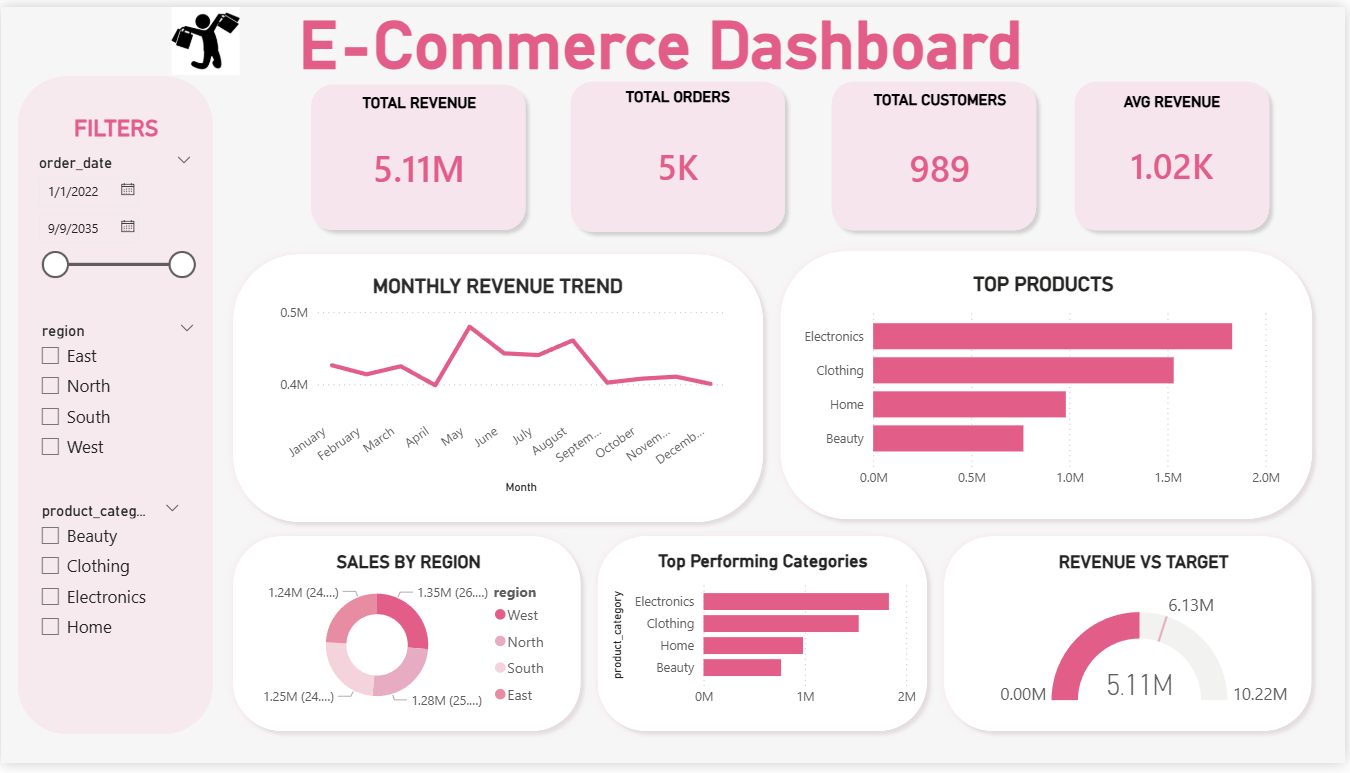

This screenshot's page, from the dashboard's own definition file:
{"tool":"powerbi","page":{"name":"Page 1","canvas":[1280,720],"ordinal":0},"visuals":[{"type":"shape","box":[287.5,65.6,220.3,154.7],"z":0},{"type":"cardVisual","title":"TOTAL REVENUE","fields":{"Data":["Sum(ecommerce_sales_analytics_5000.revenue)"]},"box":[317.2,82.8,162.5,120.3],"z":1000},{"type":"shape","box":[213.2,227.4,521.1,271.6],"z":2000},{"type":"lineChart","title":"MONTHLY REVENUE TREND","fields":{"Y":["Sum(ecommerce_sales_analytics_5000.revenue)"],"Category":["ecommerce_sales_analytics_5000.order_date.Variation.Date Hierarchy.Month"]},"box":[252.6,254.2,440.5,213.2],"z":3000},{"type":"shape","box":[734.2,224.2,522.6,271.6],"z":4000},{"type":"barChart","title":"TOP PRODUCTS","fields":{"Category":["ecommerce_sales_analytics_5000.product_category"],"Y":["Sum(ecommerce_sales_analytics_5000.revenue)"]},"box":[754.7,252.6,476.8,213.2],"z":5000},{"type":"shape","box":[213.2,495.8,347.4,202.1],"z":6000},{"type":"donutChart","title":"SALES BY REGION","fields":{"Y":["Sum(ecommerce_sales_analytics_5000.revenue)"],"Category":["ecommerce_sales_analytics_5000.region"]},"box":[241.6,517.9,293.7,157.9],"z":7000},{"type":"shape","box":[890.5,495.8,366.3,202.1],"z":8000},{"type":"gauge","title":"REVENUE VS TARGET","fields":{"Y":["Sum(ecommerce_sales_analytics_5000.revenue)"],"TargetValue":["ecommerce_sales_analytics_5000.Target"]},"box":[941.1,517.9,293.7,157.9],"z":9000},{"type":"shape","box":[534.4,62.5,220.3,159.4],"z":10000},{"type":"shape","box":[782.8,62.5,210.9,157.8],"z":11000},{"type":"shape","box":[1014.1,62.5,201.6,157.8],"z":12000},{"type":"cardVisual","title":"TOTAL ORDERS","fields":{"Data":["Count(ecommerce_sales_analytics_5000.order_id)"]},"box":[548.4,76.6,192.2,129.7],"z":13000},{"type":"cardVisual","title":"TOTAL CUSTOMERS","fields":{"Data":["Count(ecommerce_sales_analytics_5000.customer_id)"]},"box":[793.8,79.7,200,126.6],"z":14000},{"type":"cardVisual","title":"AVG REVENUE","fields":{"Data":["ecommerce_sales_analytics_5000.Avg Revenue"]},"box":[1037.5,81.2,156.2,120.3],"z":15000},{"type":"shape","box":[560.5,495.8,330,202.1],"z":16000},{"type":"shape","box":[15.8,66.3,186.3,626.9],"z":17001},{"type":"textbox","title":"FILTERS","box":[37.9,102.6,142.1,53.7],"z":17002},{"type":"slicer","fields":{"Values":["ecommerce_sales_analytics_5000.order_date"]},"box":[23.4,134.4,170.3,159.4],"z":17003},{"type":"slicer","fields":{"Values":["ecommerce_sales_analytics_5000.region"]},"box":[25,293.8,170.3,173.4],"z":17004},{"type":"textbox","title":"E-Commerce Dashboard","box":[0,0,1256.9,71.1],"z":17005},{"type":"image","box":[157.9,0,72.6,64.7],"z":17006},{"type":"slicer","fields":{"Values":["ecommerce_sales_analytics_5000.product_category"]},"box":[25,465.6,156.2,173.4],"z":17009},{"type":"barChart","title":"Top Performing Categories","fields":{"Category":["ecommerce_sales_analytics_5000.product_category"],"Y":["Sum(ecommerce_sales_analytics_5000.revenue)"]},"box":[575,517.2,300,157.8],"z":17010}]}

Visuals, with their boxes in screenshot pixels (x1, y1, x2, y2), scaled from the page's 1280x720 canvas onto the 1350x773 screenshot:
shape: detection(303, 70, 536, 237)
"TOTAL REVENUE" cardVisual: detection(335, 89, 506, 218)
shape: detection(225, 244, 774, 536)
"MONTHLY REVENUE TREND" lineChart: detection(266, 273, 731, 502)
shape: detection(774, 241, 1326, 532)
"TOP PRODUCTS" barChart: detection(796, 271, 1299, 500)
shape: detection(225, 532, 591, 749)
"SALES BY REGION" donutChart: detection(255, 556, 565, 726)
shape: detection(939, 532, 1326, 749)
"REVENUE VS TARGET" gauge: detection(993, 556, 1302, 726)
shape: detection(564, 67, 796, 238)
shape: detection(826, 67, 1048, 237)
shape: detection(1070, 67, 1282, 237)
"TOTAL ORDERS" cardVisual: detection(578, 82, 781, 221)
"TOTAL CUSTOMERS" cardVisual: detection(837, 86, 1048, 221)
"AVG REVENUE" cardVisual: detection(1094, 87, 1259, 216)
shape: detection(591, 532, 939, 749)
shape: detection(17, 71, 213, 744)
"FILTERS" textbox: detection(40, 110, 190, 168)
slicer - ecommerce_sales_analytics_5000.order_date: detection(25, 144, 204, 315)
slicer - ecommerce_sales_analytics_5000.region: detection(26, 315, 206, 502)
"E-Commerce Dashboard" textbox: detection(0, 0, 1326, 76)
image: detection(167, 0, 243, 69)
slicer - ecommerce_sales_analytics_5000.product_category: detection(26, 500, 191, 686)
"Top Performing Categories" barChart: detection(606, 555, 923, 725)
